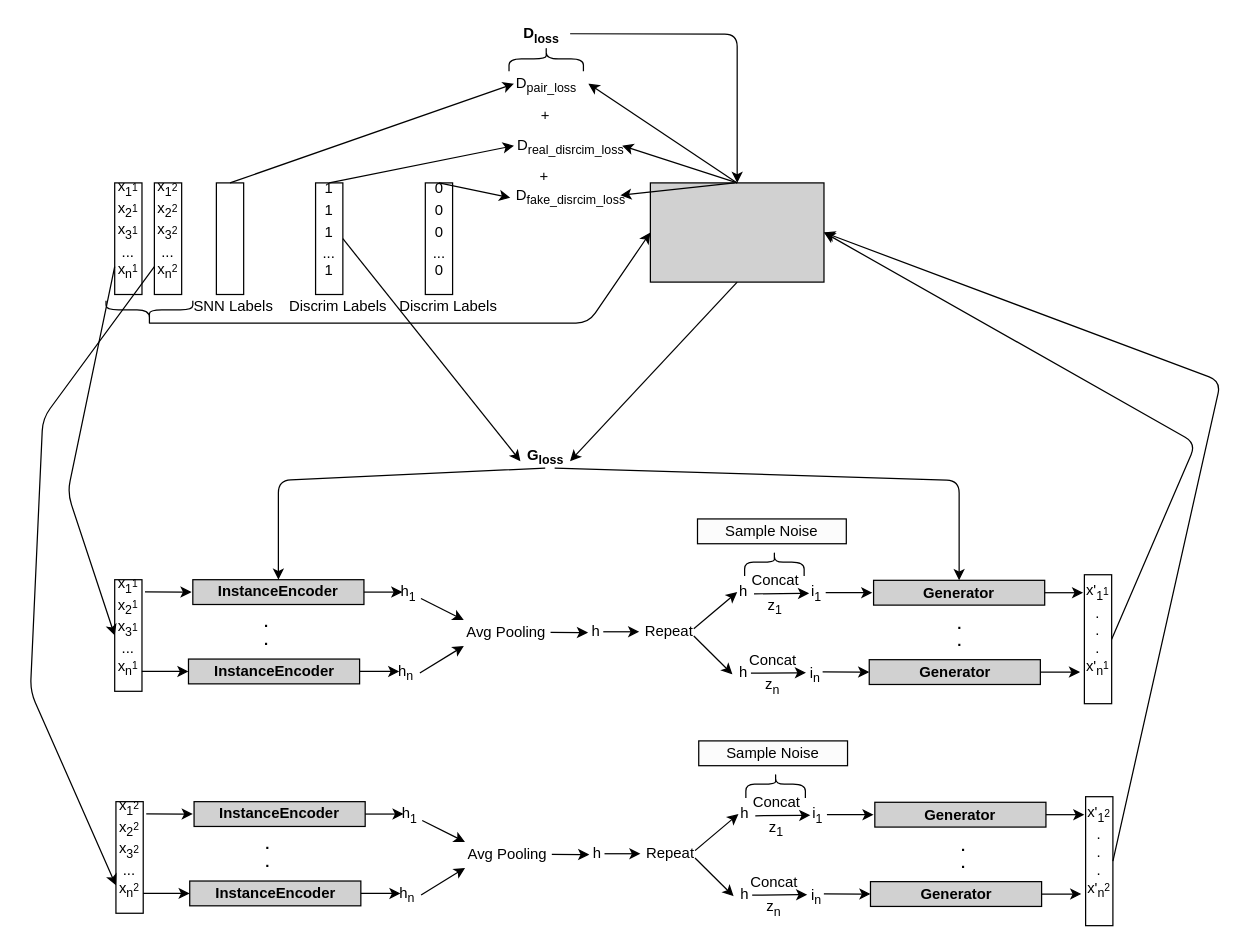
Image size: 1252x947. Some labels were removed from this diagram. Here are the shapes that lost their labels. From the top down, the box of each, then its label:
(215, 182, 244, 294): 1 0 1 ... n % 2
(649, 182, 824, 282): SNN/Disrcim
